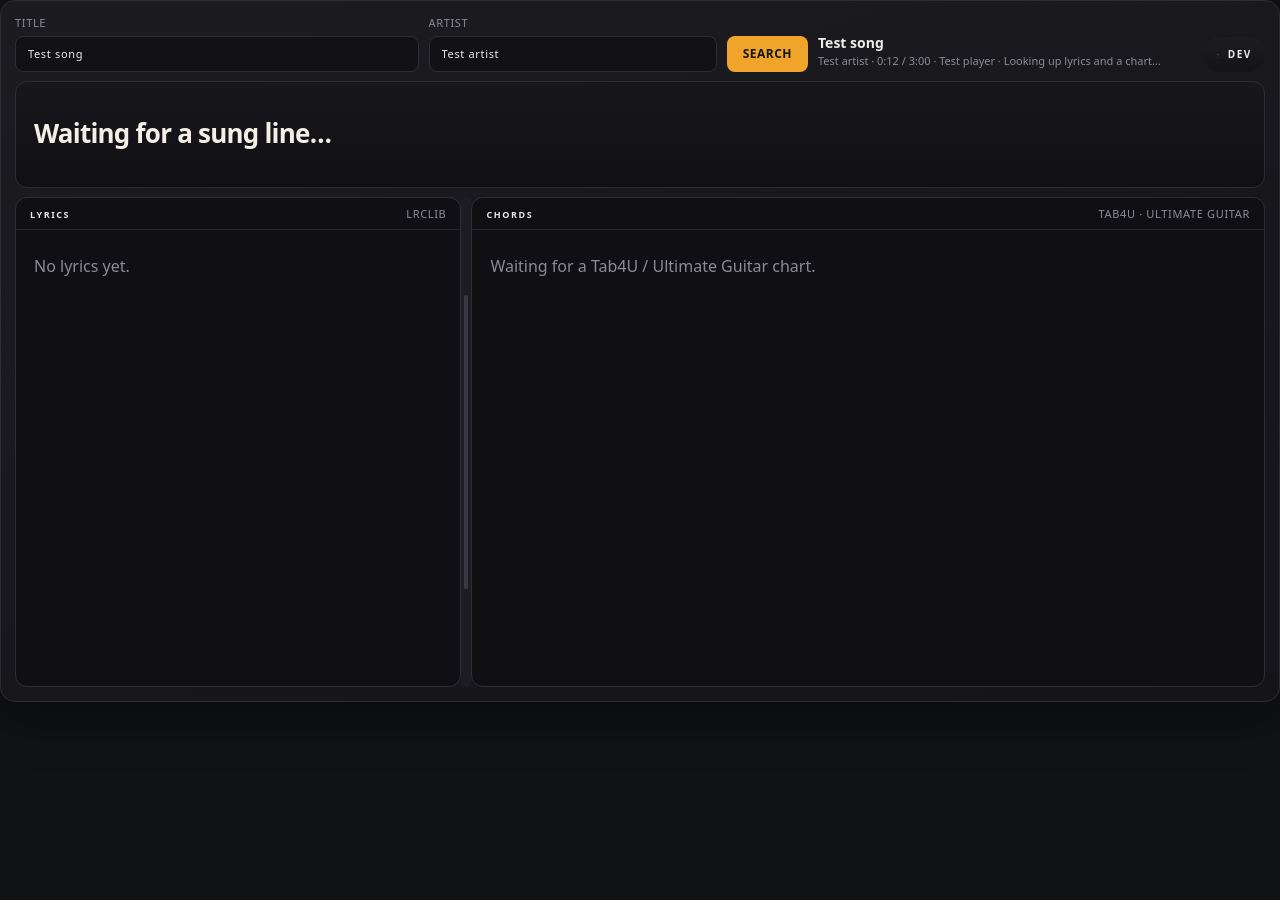
it: PlayAlongPanel › opens YouTube CC and Whisper lanes from the Dev toggle
Click the button "Dev". click: (1234, 54)
box: [1203,36,1265,72]
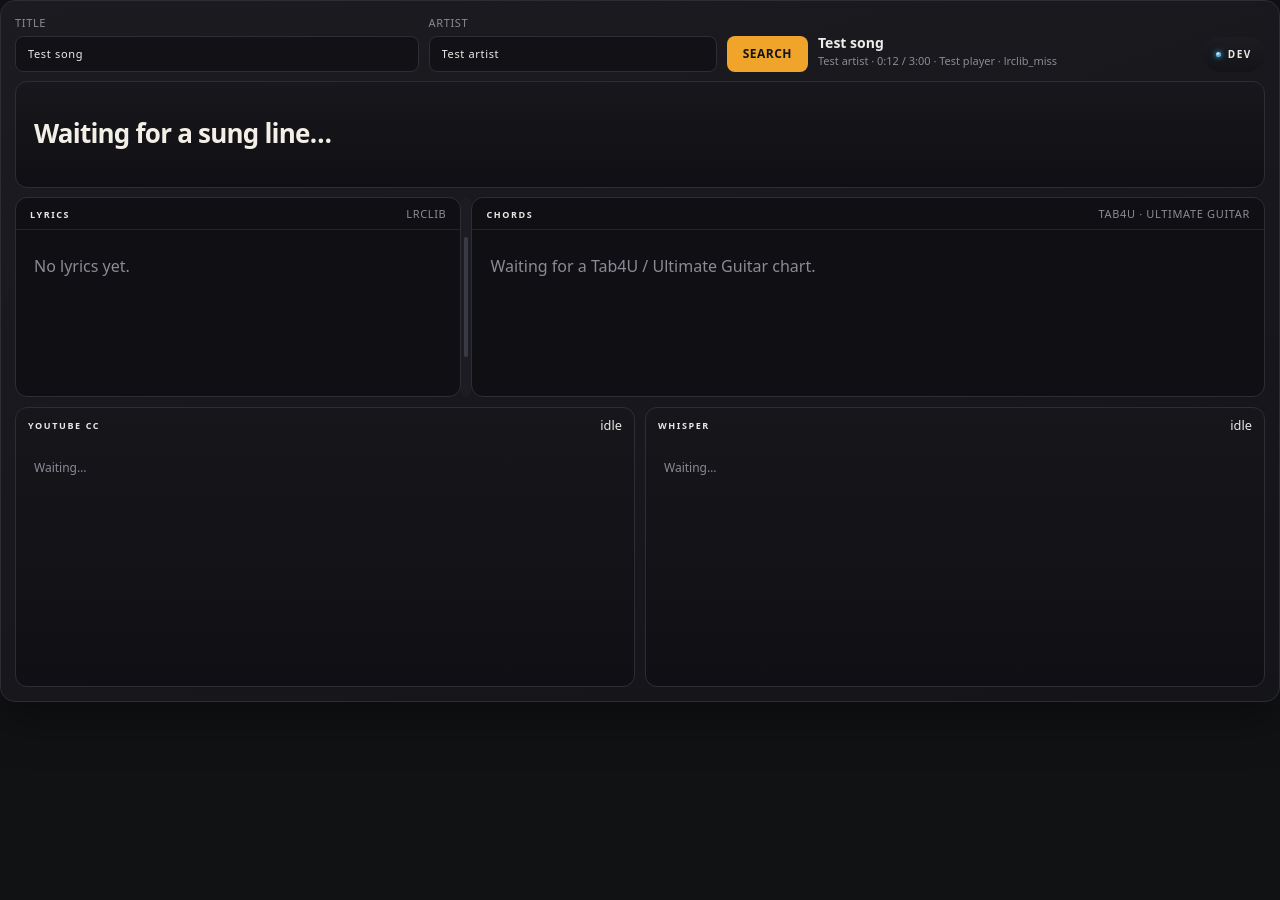
Now the element with test id "playalong-dev" is shown, box [15,407,1265,687]
Now the element "YouTube CC" is shown, box [15,407,635,687]
Now the element "Whisper" is shown, box [645,407,1265,687]
